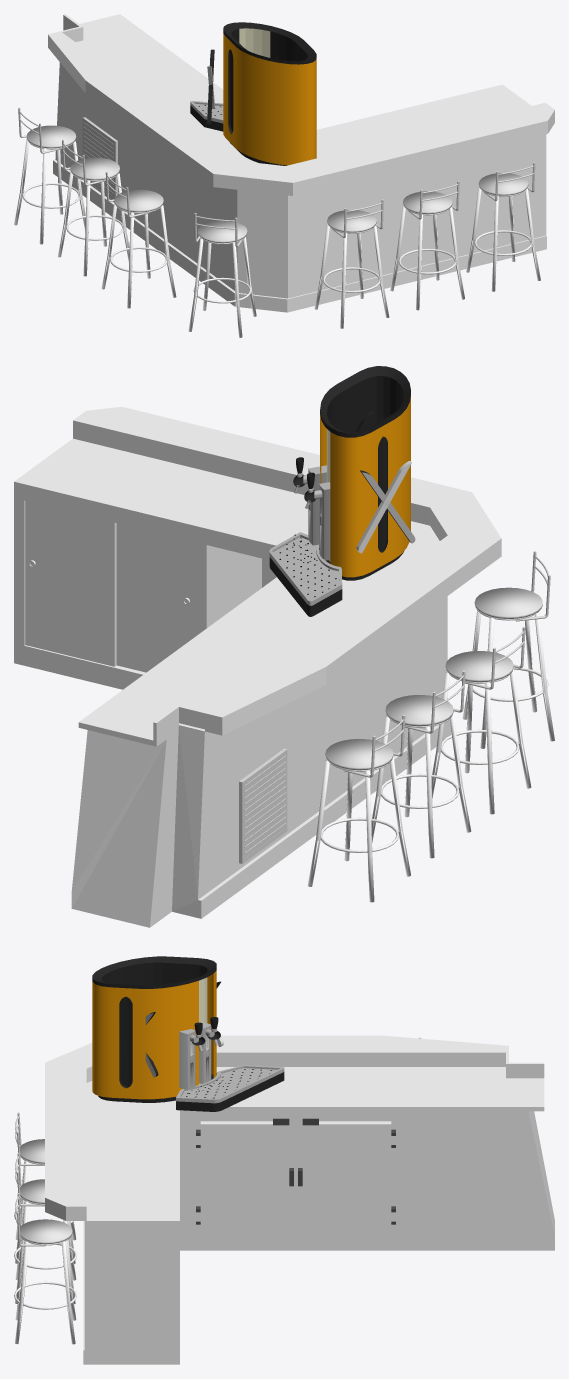
The picture shows the model from 3 angles, top to bottom: view 1: azimuth 30°, elevation 25°; view 2: azimuth 150°, elevation 25°; view 3: azimuth 270°, elevation 25°; orthographic projection. The views are drawn at different scales.
Visible parts, largest first — view 1: Layer0_001, Biertap_001, Group_028, Group_049, Group_042, Group_056, Group_035, Group_021, Group_014, Group#52_001, Group_031, Group_024 (+5 smaller); view 2: Layer0_001, Biertap_001, Group_014, Group#52_001, Group_021, Group_028, Group_035, Group_038, Group_017, Group_031, Group_024, Group_001 (+2 smaller); view 3: Layer0_001, Biertap_001, D3B_002, D3B_001, Group_049, Group_052, Group_005, Group_056, Group_001, Group_045, Group_059.
Boxes of the visible parts, bbox=[...] form: Layer0_001: bbox=[48, 14, 554, 312]; Biertap_001: bbox=[190, 22, 316, 165]; Group_028: bbox=[101, 202, 176, 308]; Group_049: bbox=[466, 186, 540, 291]; Group_042: bbox=[314, 222, 389, 328]; Group_056: bbox=[390, 204, 464, 310]; Group_035: bbox=[188, 236, 256, 337]; Group_021: bbox=[57, 170, 129, 276]; Group_014: bbox=[14, 138, 85, 244]; Group#52_001: bbox=[84, 122, 113, 196]; Group_031: bbox=[114, 189, 163, 212]; Group_024: bbox=[70, 157, 119, 180]; Layer0_001: bbox=[14, 406, 501, 927]; Biertap_001: bbox=[269, 366, 410, 616]; Group_014: bbox=[307, 755, 410, 902]; Group#52_001: bbox=[244, 755, 285, 857]; Group_021: bbox=[371, 712, 471, 858]; Group_028: bbox=[431, 668, 531, 814]; Group_035: bbox=[462, 609, 554, 748]; Group_038: bbox=[474, 587, 542, 618]; Group_017: bbox=[325, 739, 393, 770]; Group_031: bbox=[445, 651, 513, 682]; Group_024: bbox=[385, 695, 453, 726]; Group_001: bbox=[297, 482, 330, 562]; Layer0_001: bbox=[45, 1035, 554, 1364]; Biertap_001: bbox=[92, 956, 284, 1111]; D3B_002: bbox=[298, 1118, 395, 1232]; D3B_001: bbox=[196, 1118, 293, 1232]; Group_049: bbox=[14, 1237, 76, 1344]; Group_052: bbox=[20, 1219, 72, 1244]; Group_005: bbox=[179, 1029, 210, 1093]; Group_056: bbox=[14, 1197, 76, 1303]; Group_001: bbox=[199, 1022, 225, 1086]; Group_045: bbox=[20, 1139, 44, 1163]; Group_059: bbox=[20, 1179, 44, 1203].
Bounding box in the file's own units: 117 × 72.37 × 134.
